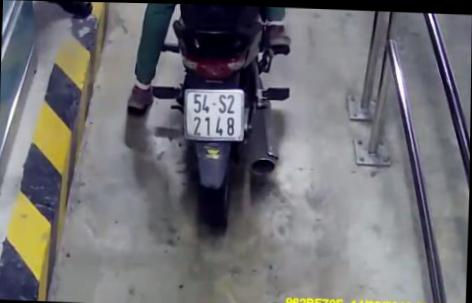LP: (184, 87, 246, 139)
